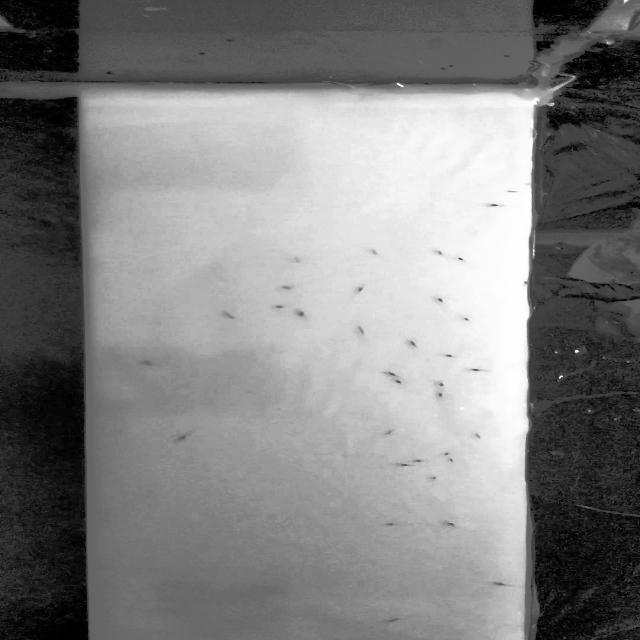shrimp: (384, 612, 413, 624), (173, 430, 195, 441), (375, 428, 399, 438), (480, 199, 510, 207), (431, 388, 450, 400), (434, 295, 453, 307), (405, 338, 421, 351), (351, 284, 368, 296), (467, 366, 492, 374), (282, 285, 302, 295), (286, 257, 308, 266), (353, 325, 369, 337), (388, 376, 406, 386), (386, 369, 402, 380), (365, 248, 387, 256), (139, 358, 161, 366), (220, 312, 239, 320), (503, 186, 522, 194), (444, 353, 465, 360), (490, 581, 510, 588), (469, 430, 486, 438), (398, 462, 416, 469), (446, 522, 463, 529), (435, 380, 450, 387), (461, 314, 474, 322), (442, 457, 456, 464), (428, 472, 442, 479), (382, 522, 400, 527), (455, 256, 469, 262), (429, 251, 445, 256), (411, 457, 424, 463), (438, 451, 453, 456), (297, 308, 306, 316), (272, 303, 284, 309)
